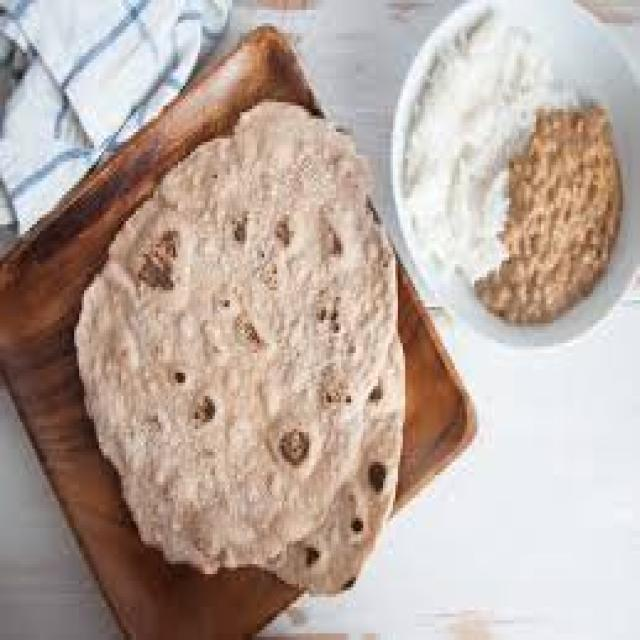chapathi: (64, 208, 382, 580)
